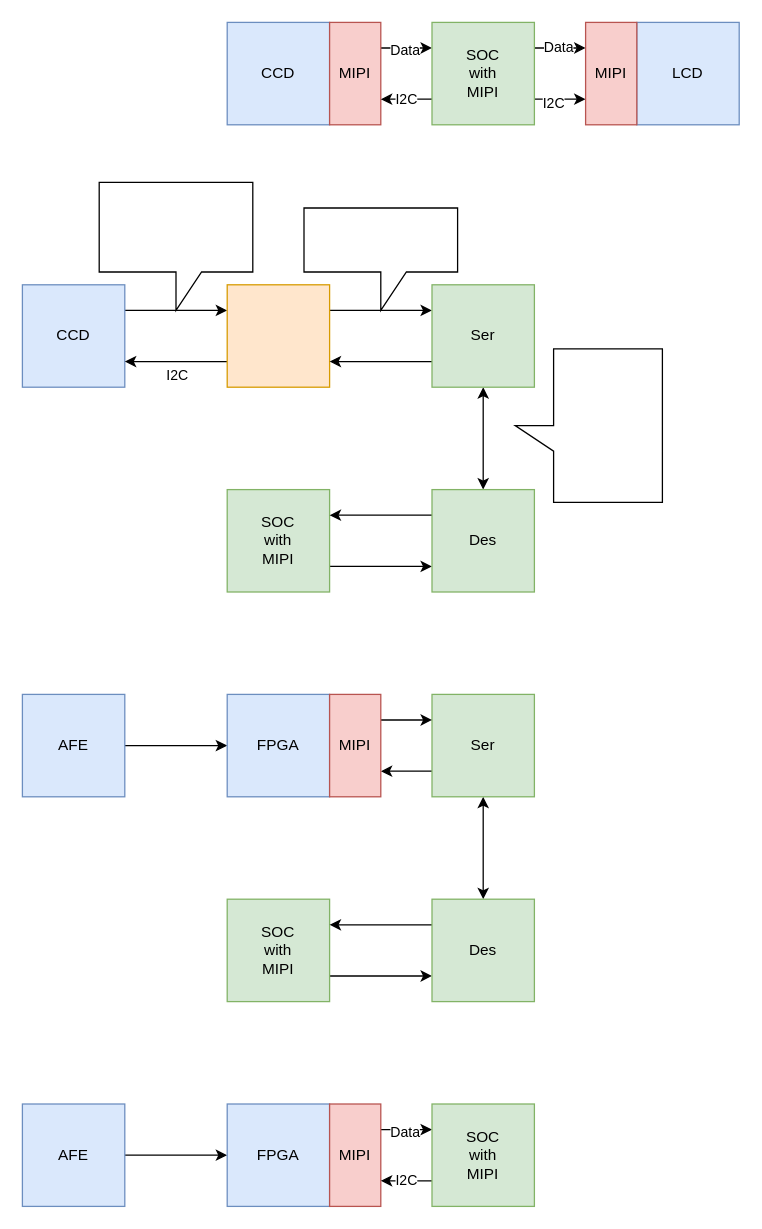
Some shapes in this 762 by 1229 pixel diagram are drawn without their labels. The shapes that lost their labels are listed below. From the top down, each one's centre as x and y in pixels, then its label:
At (175,245): "LVDS subLVDS SLVS-EC ...".
At (380,258): "C-PHY D-PHY(CLK)".
At (278,335): "xyz to mipi".
At (588,425): "GMSL FPD-LINK V-By-One".
